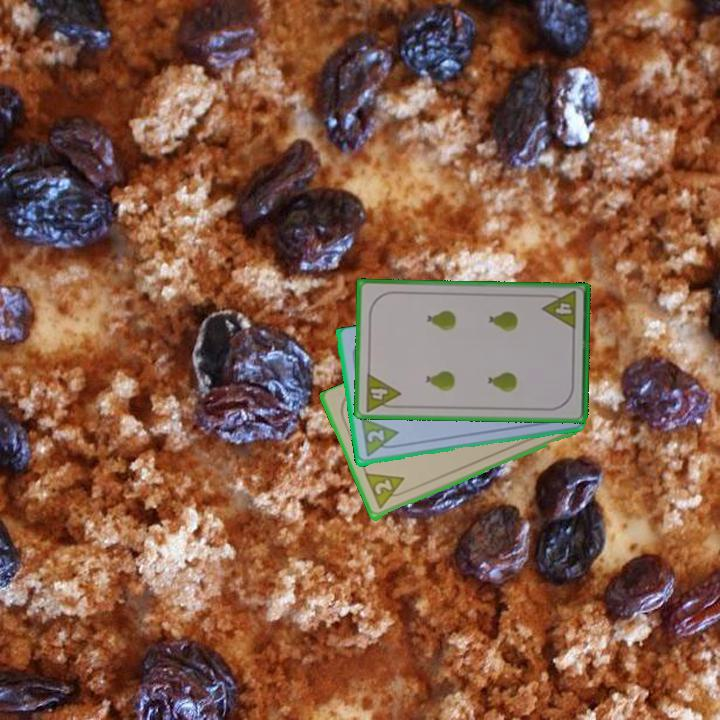2p: (361, 470, 412, 512), (363, 426, 387, 445)
4p: (362, 370, 403, 414), (540, 288, 579, 332)
